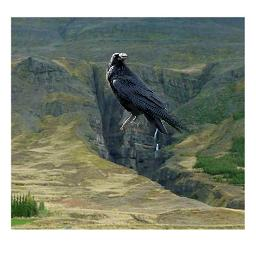Crow: (106, 52, 192, 134)
